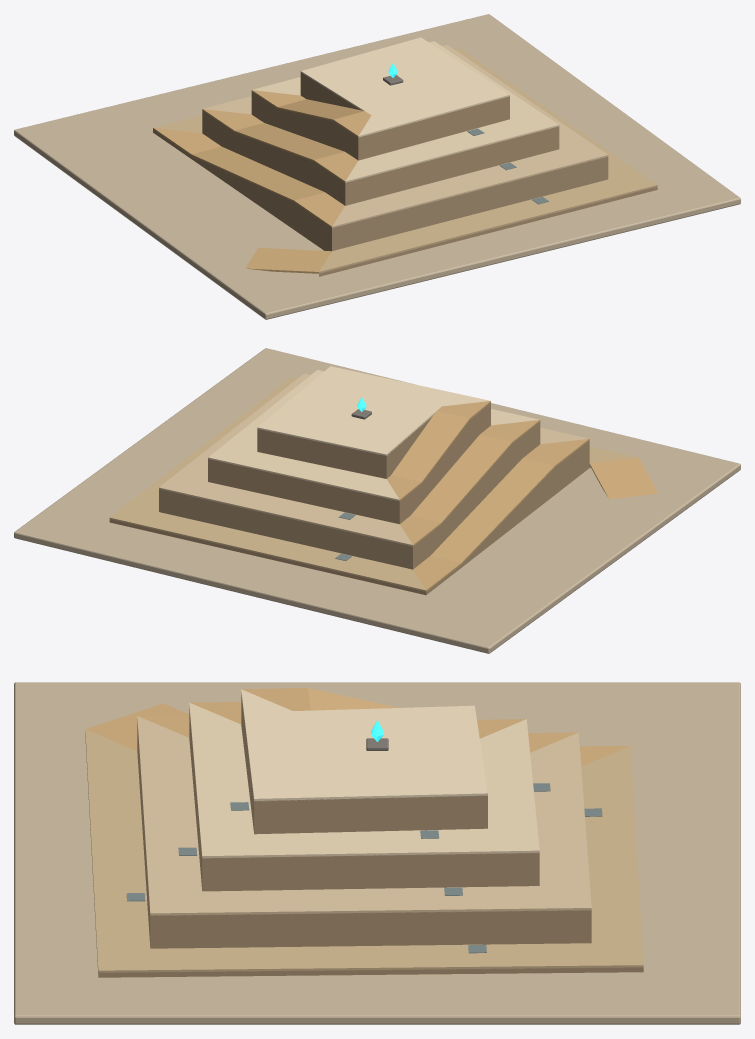
File: SandGuard_Spiral_Blockout_v1.fbx
3 views of the same model, one above another, from view 1: azimuth 30°, elevation 25°; view 2: azimuth 150°, elevation 25°; view 3: azimuth 270°, elevation 25° (orthographic). The views are drawn at different scales.
Visible parts, largest first — view 1: Ground_Foundation, Road_13_Summit_Platform, Body_05_Middle_Front, Road_01_Lower_Front_Flat, Body_09_Upper_Front, Road_05_Middle_Front_Flat, Body_Summit_Solid, Road_04_Lower_Left_Ramp, Road_09_Upper_Front_Flat, Body_08_Middle_Left, Road_08_Middle_Left_Ramp, Body_04_Lower_Left (+10 smaller); view 2: Ground_Foundation, Road_13_Summit_Platform, Body_07_Middle_Rear, Road_04_Lower_Left_Ramp, Road_03_Lower_Rear_Flat, Road_08_Middle_Left_Ramp, Body_11_Upper_Rear, Road_07_Middle_Rear_Flat, Body_Summit_Solid, Road_12_Upper_Left_Ramp, Road_11_Upper_Rear_Flat, Body_08_Middle_Left (+7 smaller); view 3: Ground_Foundation, Road_13_Summit_Platform, Body_06_Middle_Right, Road_02_Lower_Right_Flat, Road_01_Lower_Front_Flat, Body_10_Upper_Right, Road_03_Lower_Rear_Flat, Road_06_Middle_Right_Flat, Road_05_Middle_Front_Flat, Body_Summit_Solid, Road_07_Middle_Rear_Flat, Road_10_Upper_Right_Flat (+9 smaller).
Boxes of the visible parts, bbox=[...] form: Ground_Foundation: bbox=[14, 14, 740, 319]; Road_13_Summit_Platform: bbox=[300, 37, 509, 137]; Body_05_Middle_Front: bbox=[332, 156, 608, 250]; Road_01_Lower_Front_Flat: bbox=[319, 179, 657, 273]; Body_09_Upper_Front: bbox=[345, 126, 559, 205]; Road_05_Middle_Front_Flat: bbox=[332, 149, 608, 227]; Body_Summit_Solid: bbox=[300, 73, 509, 160]; Road_04_Lower_Left_Ramp: bbox=[153, 128, 344, 227]; Road_09_Upper_Front_Flat: bbox=[345, 119, 559, 182]; Body_08_Middle_Left: bbox=[202, 111, 345, 205]; Road_08_Middle_Left_Ramp: bbox=[202, 109, 358, 182]; Body_04_Lower_Left: bbox=[153, 129, 331, 251]; Ground_Foundation: bbox=[14, 348, 740, 653]; Road_13_Summit_Platform: bbox=[257, 366, 490, 455]; Body_07_Middle_Rear: bbox=[159, 489, 412, 569]; Road_04_Lower_Left_Ramp: bbox=[413, 438, 589, 591]; Road_03_Lower_Rear_Flat: bbox=[109, 512, 426, 591]; Road_08_Middle_Left_Ramp: bbox=[400, 420, 540, 546]; Body_11_Upper_Rear: bbox=[208, 459, 399, 524]; Road_07_Middle_Rear_Flat: bbox=[159, 482, 412, 546]; Body_Summit_Solid: bbox=[257, 416, 432, 478]; Road_12_Upper_Left_Ramp: bbox=[387, 401, 490, 500]; Road_11_Upper_Rear_Flat: bbox=[208, 452, 399, 501]; Body_08_Middle_Left: bbox=[413, 421, 540, 569]; Ground_Foundation: bbox=[14, 682, 740, 1024]; Road_13_Summit_Platform: bbox=[241, 689, 487, 801]; Body_06_Middle_Right: bbox=[150, 910, 591, 948]; Road_02_Lower_Right_Flat: bbox=[98, 943, 643, 973]; Road_01_Lower_Front_Flat: bbox=[85, 729, 150, 970]; Body_10_Upper_Right: bbox=[202, 852, 539, 891]; Road_03_Lower_Rear_Flat: bbox=[581, 746, 643, 964]; Road_06_Middle_Right_Flat: bbox=[150, 886, 591, 915]; Road_05_Middle_Front_Flat: bbox=[137, 716, 202, 913]; Body_Summit_Solid: bbox=[241, 694, 487, 834]; Road_07_Middle_Rear_Flat: bbox=[530, 732, 591, 907]; Road_10_Upper_Right_Flat: bbox=[202, 828, 539, 858].
Bounding box in the file's own units: 6100 × 1270 × 5600.
